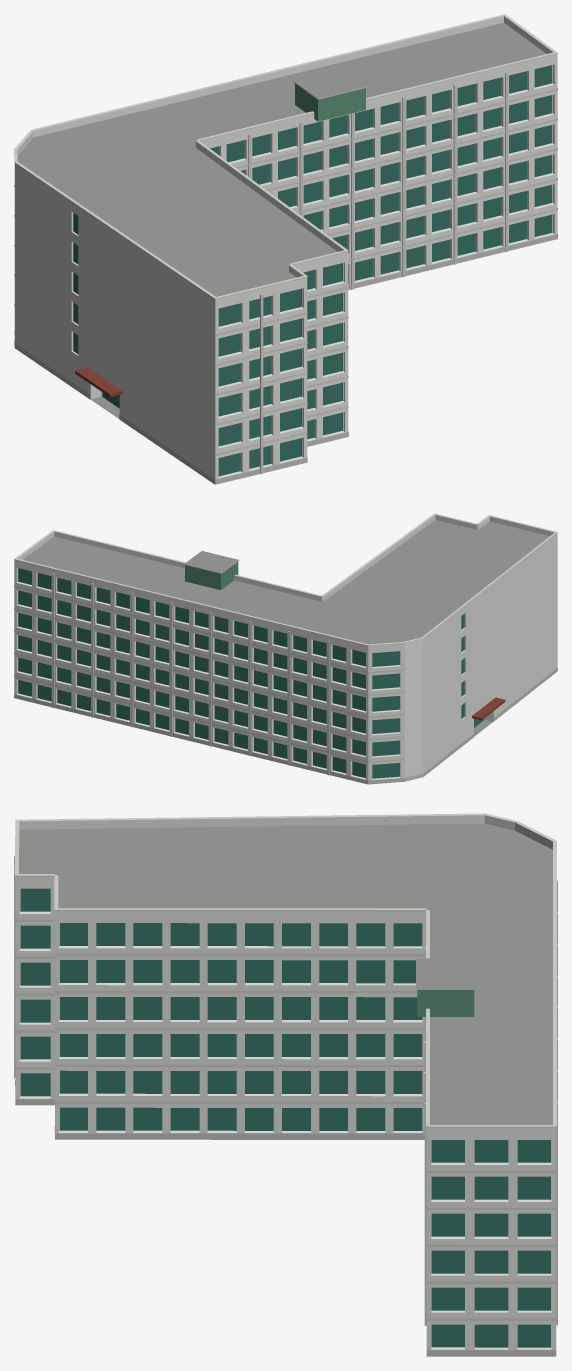
3 renders of one model, top to bottom at view 1: azimuth 30°, elevation 25°; view 2: azimuth 150°, elevation 25°; view 3: azimuth 270°, elevation 25°, orthographic. The views are drawn at different scales.
Visible parts, largest first — view 1: medicine1__wall, medicine1__roof, medicine1__glass, medicine1__trim, medicine1__parapet, medicine1__base, medicine1__frame, medicine1__roofAccent, medicine1__canopy; view 2: medicine1__wall, medicine1__glass, medicine1__roof, medicine1__trim, medicine1__parapet, medicine1__base, medicine1__frame, medicine1__roofAccent; view 3: medicine1__roof, medicine1__glass, medicine1__wall, medicine1__trim, medicine1__parapet, medicine1__base, medicine1__roofAccent.
Part boxes in pixels (x1=…): medicine1__wall: x1=14, y1=59, x2=557, y2=484; medicine1__roof: x1=17, y1=22, x2=546, y2=418; medicine1__glass: x1=73, y1=65, x2=551, y2=476; medicine1__trim: x1=14, y1=14, x2=557, y2=474; medicine1__parapet: x1=14, y1=16, x2=557, y2=304; medicine1__base: x1=14, y1=234, x2=557, y2=484; medicine1__frame: x1=111, y1=67, x2=542, y2=473; medicine1__roofAccent: x1=295, y1=83, x2=365, y2=121; medicine1__canopy: x1=75, y1=367, x2=122, y2=397; medicine1__wall: x1=14, y1=537, x2=557, y2=783; medicine1__glass: x1=18, y1=568, x2=484, y2=778; medicine1__roof: x1=22, y1=520, x2=549, y2=736; medicine1__trim: x1=14, y1=513, x2=557, y2=775; medicine1__parapet: x1=14, y1=515, x2=557, y2=650; medicine1__base: x1=14, y1=667, x2=557, y2=784; medicine1__frame: x1=25, y1=570, x2=385, y2=777; medicine1__roofAccent: x1=185, y1=562, x2=238, y2=589; medicine1__roof: x1=19, y1=823, x2=552, y2=1124; medicine1__glass: x1=20, y1=888, x2=550, y2=1347; medicine1__wall: x1=15, y1=883, x2=556, y2=1350; medicine1__trim: x1=14, y1=813, x2=557, y2=1325; medicine1__parapet: x1=15, y1=815, x2=556, y2=1134; medicine1__base: x1=15, y1=1080, x2=556, y2=1356; medicine1__roofAccent: x1=417, y1=990, x2=474, y2=1016.
Size of the model in its own units: 65.94 by 24.2 by 47.61.
